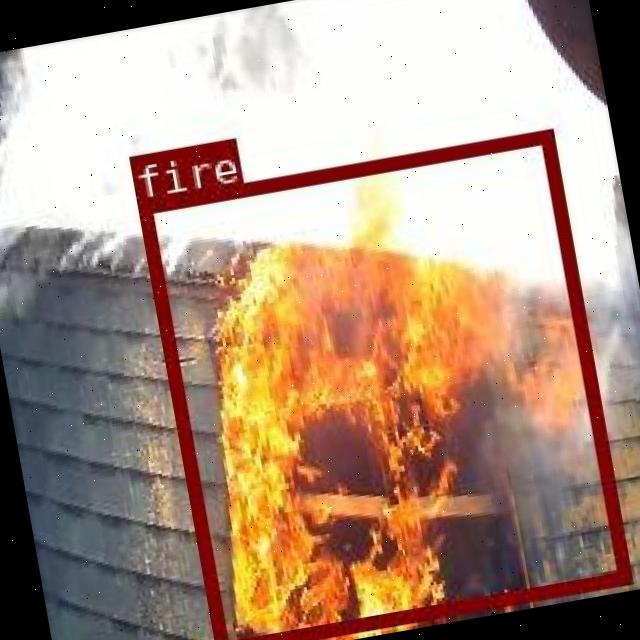fire: (136, 127, 629, 640)
